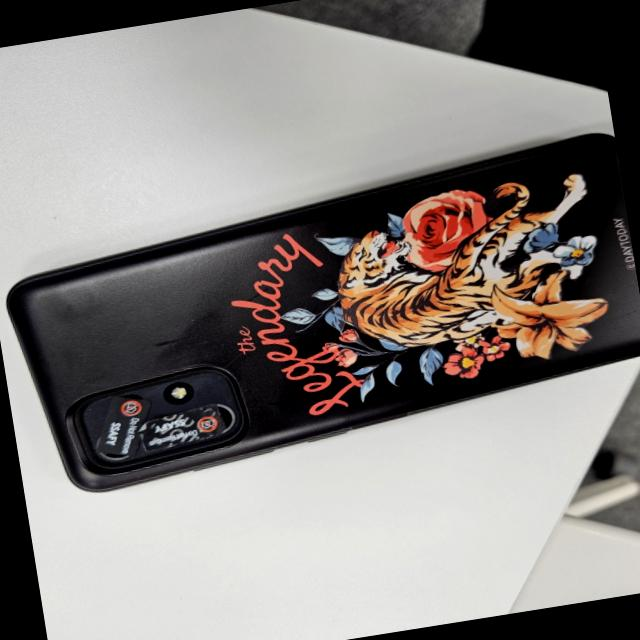phone: (0, 128, 640, 500)
removed_sticker: (138, 405, 224, 449)
sticker: (98, 393, 152, 458)
